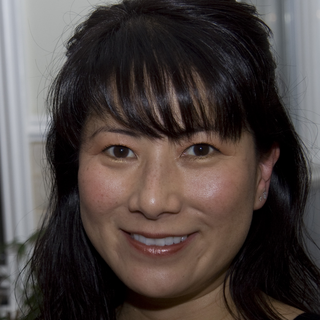eye: (179, 139, 226, 164), (95, 140, 140, 164)
